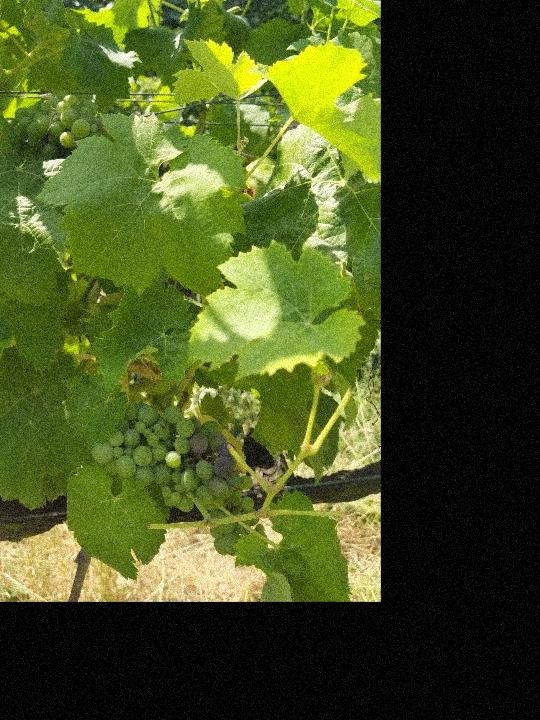grape: (89, 403, 263, 556)
